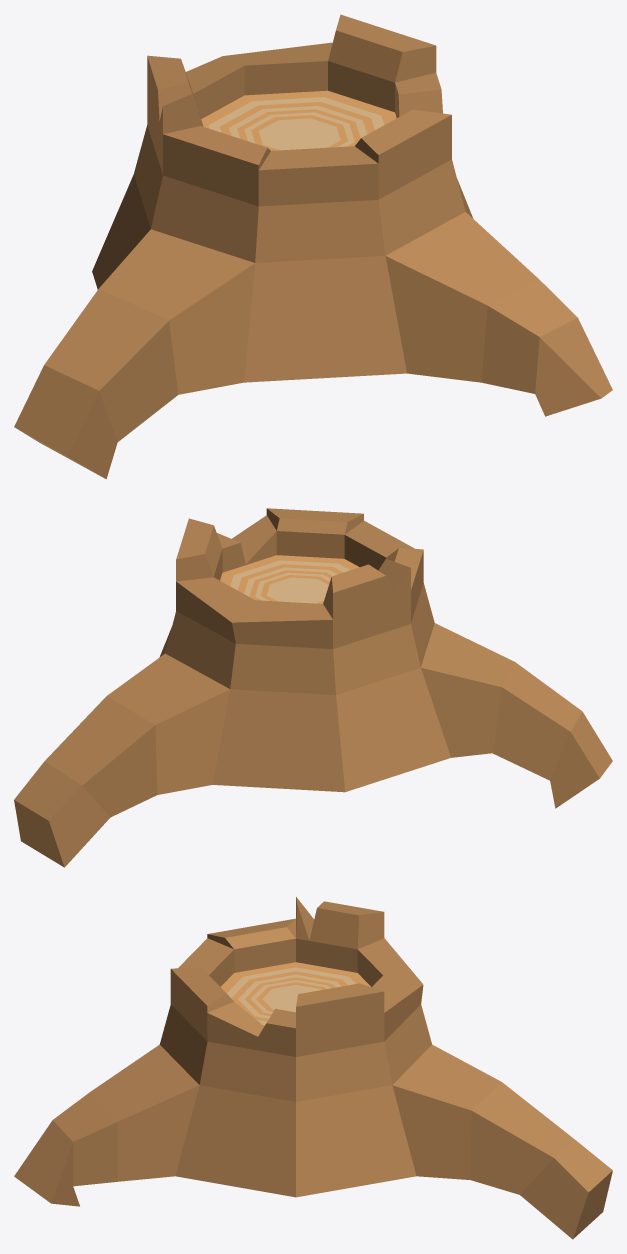
The model's file is treestump 1.fbx.
3 views of the same model, one above another, from view 1: azimuth 30°, elevation 25°; view 2: azimuth 150°, elevation 25°; view 3: azimuth 270°, elevation 25° (orthographic). The views are drawn at different scales.
Visible parts, largest first — view 1: Circle, Cylinder; view 2: Circle, Cylinder; view 3: Circle, Cylinder.
Boxes of the visible parts, left/top/right/bottom form: Circle: left=14, top=14, right=612, bottom=479; Cylinder: left=201, top=90, right=396, bottom=150; Circle: left=14, top=508, right=612, bottom=867; Cylinder: left=220, top=555, right=359, bottom=603; Circle: left=14, top=897, right=612, bottom=1239; Cylinder: left=221, top=962, right=370, bottom=1025.
Size of the model in its own units: 539 by 295 by 686.
